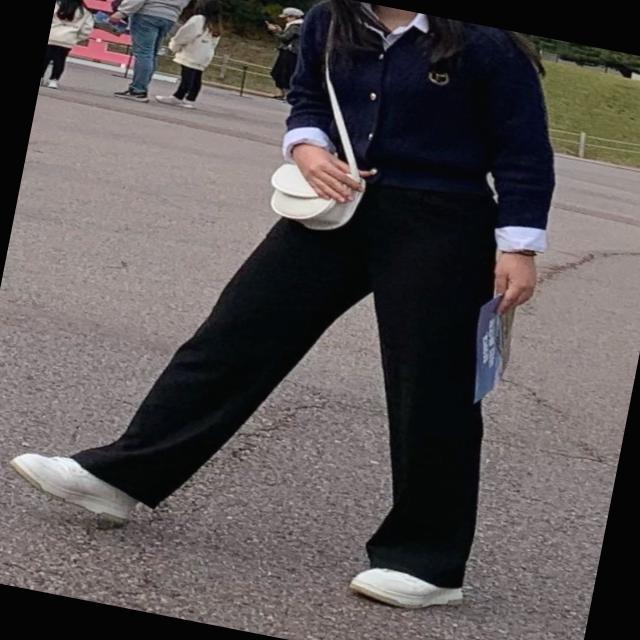cardigan: (245, 0, 579, 250)
slacks: (62, 138, 540, 598)
